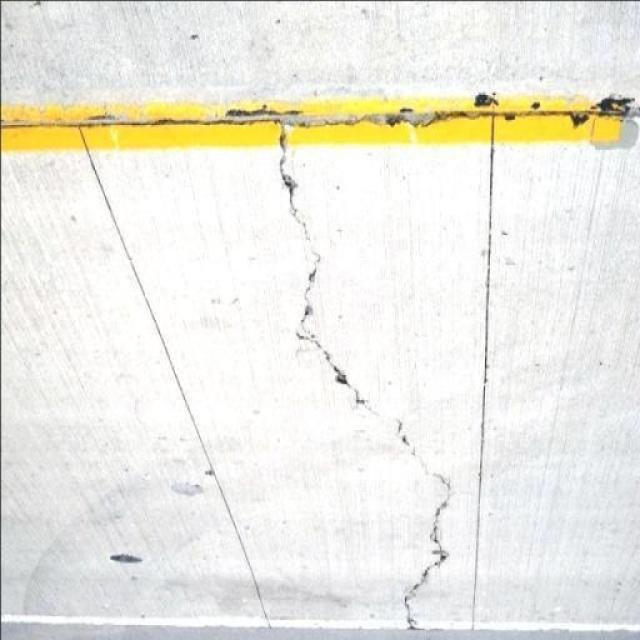Crack: (380, 439, 470, 622), (266, 235, 378, 381), (239, 124, 333, 284), (323, 352, 438, 454)
